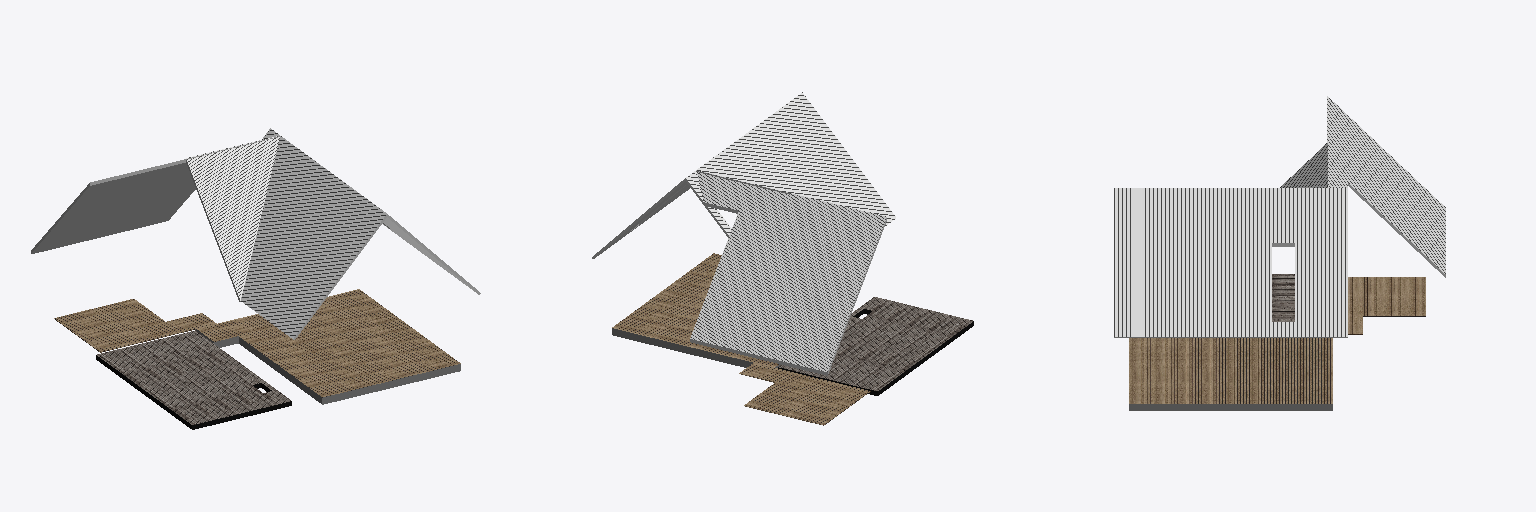
3 renders of one model, left to right at view 1: azimuth 30°, elevation 25°; view 2: azimuth 150°, elevation 25°; view 3: azimuth 270°, elevation 25°, orthographic.
Visible parts, largest first — view 1: UNITY_Taule_4"_90deg, UNITY_Plafond_Planche_Cedre, UNITY_Plancher_Bois_Gris_90deg, UNITY_Gris, Sols, UNITY_Aluminex_Frame; view 2: UNITY_Taule_4"_90deg, UNITY_Plafond_Planche_Cedre, UNITY_Plancher_Bois_Gris_90deg, UNITY_Gris, Sols, UNITY_Aluminex_Frame; view 3: UNITY_Taule_4"_90deg, UNITY_Plafond_Planche_Cedre, Sols, UNITY_Plancher_Bois_Gris_90deg, UNITY_Gris.
Part boxes in pixels (x1,y1,x2,y2): UNITY_Taule_4"_90deg: (186,128,386,338); UNITY_Plafond_Planche_Cedre: (54,289,460,397); UNITY_Plancher_Bois_Gris_90deg: (97,330,290,424); UNITY_Gris: (31,136,480,339); Sols: (196,329,460,404); UNITY_Aluminex_Frame: (96,355,291,429); UNITY_Taule_4"_90deg: (686,92,895,371); UNITY_Plafond_Planche_Cedre: (612,253,870,425); UNITY_Plancher_Bois_Gris_90deg: (779,297,972,390); UNITY_Gris: (592,171,886,375); Sols: (612,328,780,367); UNITY_Aluminex_Frame: (778,309,973,395); UNITY_Taule_4"_90deg: (1114,96,1445,336); UNITY_Plafond_Planche_Cedre: (1129,277,1425,403); Sols: (1129,404,1332,410); UNITY_Plancher_Bois_Gris_90deg: (1272,274,1294,321); UNITY_Gris: (1114,183,1445,337).
Size of the model in its own units: 41.1 by 25.2 by 41.37.
7 materials, 3 textured.